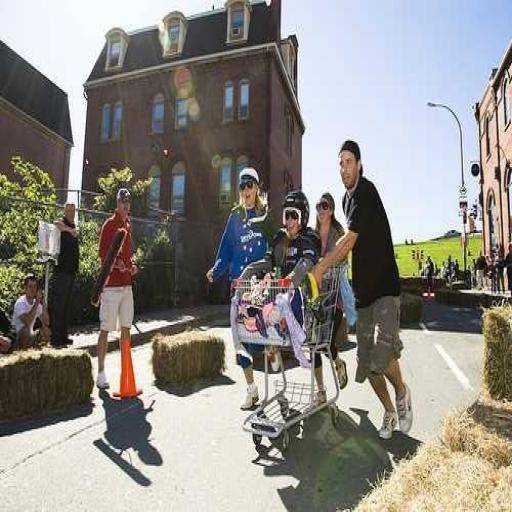shopping_cart: (229, 246, 343, 452)
